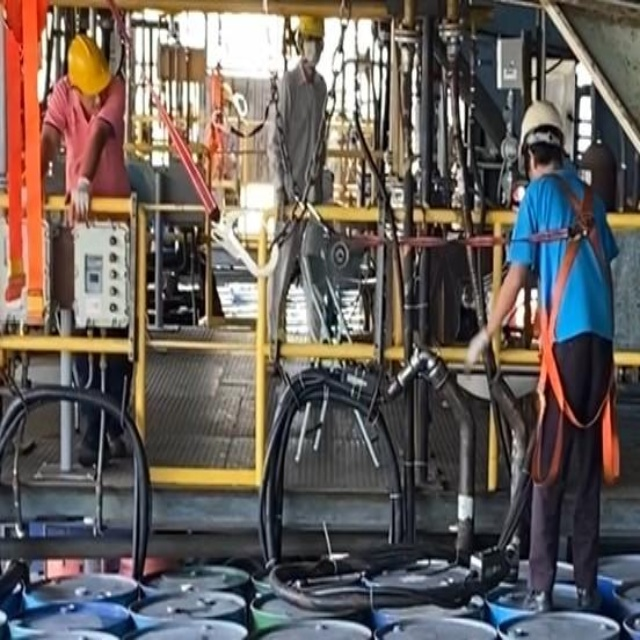Arnes_seguridad: (530, 169, 621, 493)
